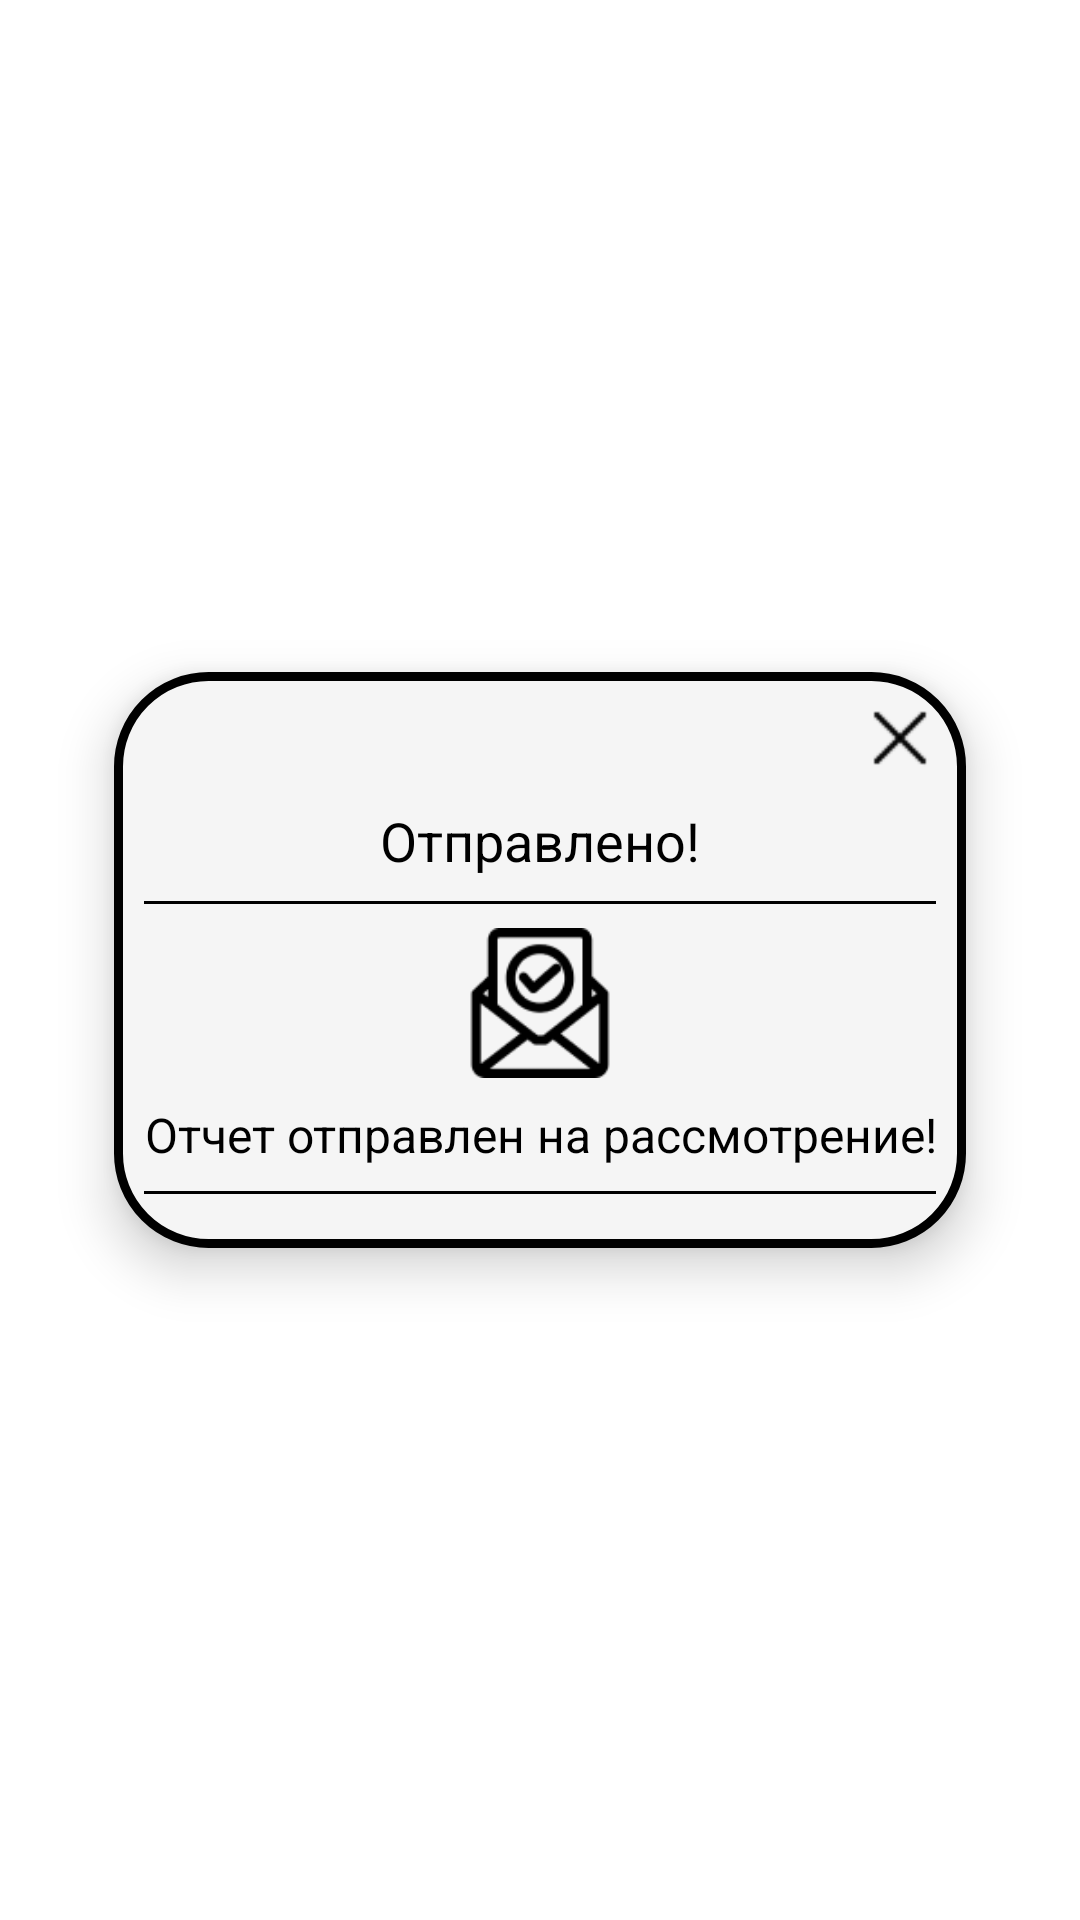

Locate icon controls on the screen. Image size 1080×1920, boxes as detection(x1, y1, x2, y2).
Закрыть: detection(873, 711, 927, 765)
